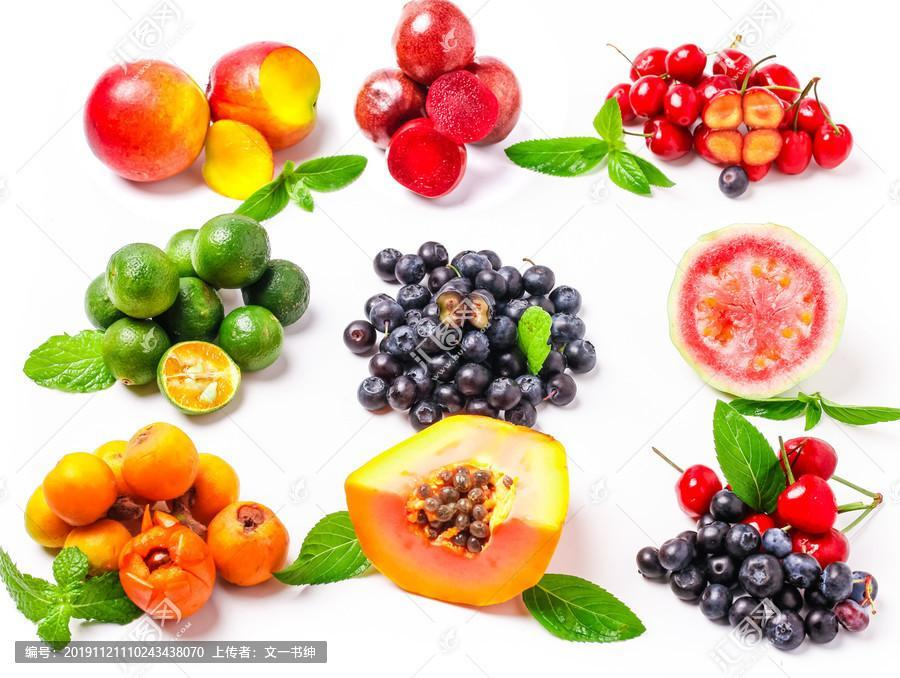apple: (82, 57, 209, 183), (210, 39, 326, 151)
